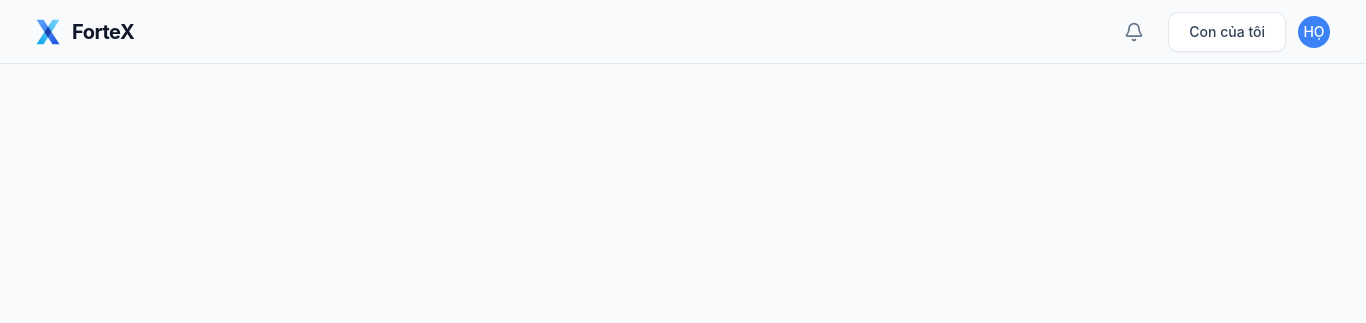
Scenario: Header — menu tài khoản › phụ huynh cũng thấy 'Đơn hàng của tôi'
Click the button with aria-label "Menu tài khoản" at [1314, 32], box [1294,12,1334,52]
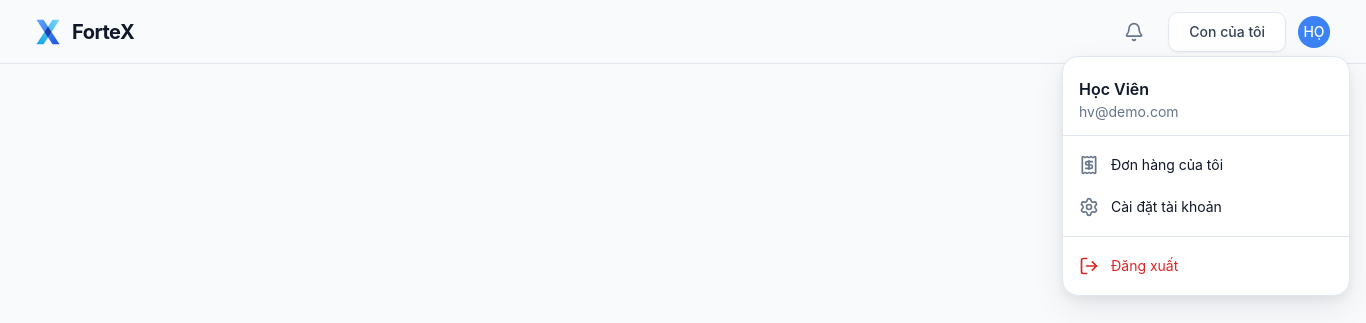
expect the link "Đơn hàng của tôi" is shown: met, box [1079,155,1223,175]
